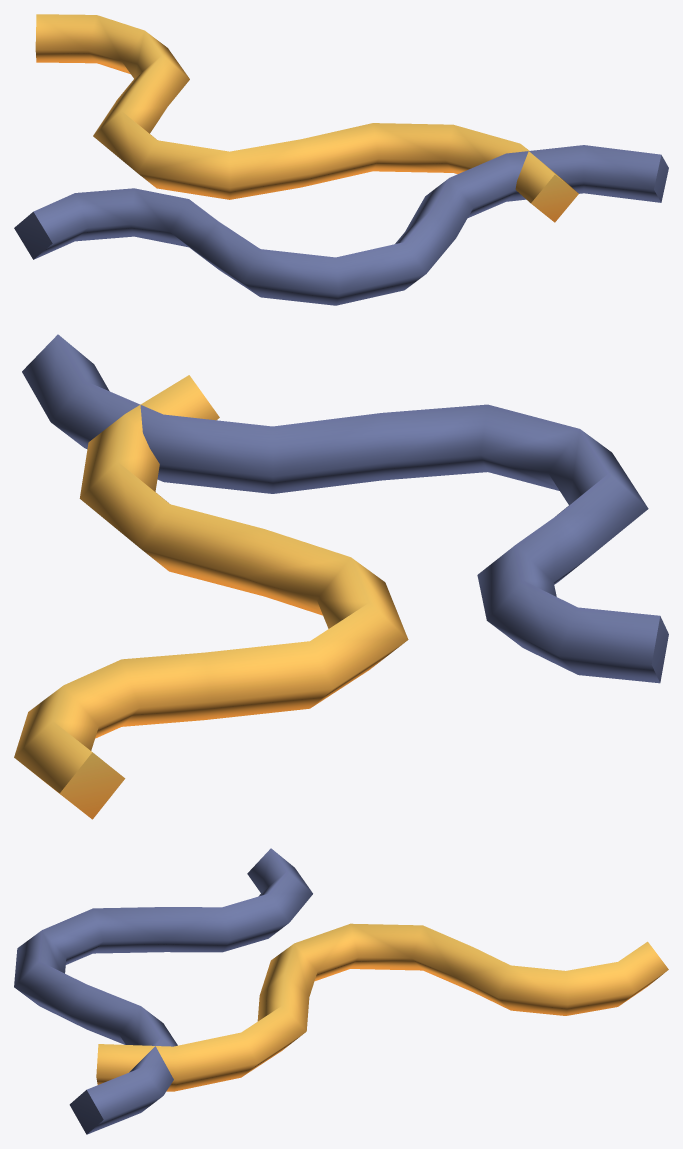
File: os_floor_cables.glb
3 views of the same model, one above another, from view 1: azimuth 30°, elevation 25°; view 2: azimuth 150°, elevation 25°; view 3: azimuth 270°, elevation 25° (orthographic). The views are drawn at different scales.
Visible parts, largest first — view 1: cables; view 2: cables; view 3: cables.
Boxes of the visible parts, x1,y1,x2,y2 form: cables: (14,14,668,305); cables: (14,334,668,819); cables: (14,848,668,1134).
Size of the model in its own units: 1.91 by 0.16 by 2.1.
Materials: 1 (1 with a texture image).
